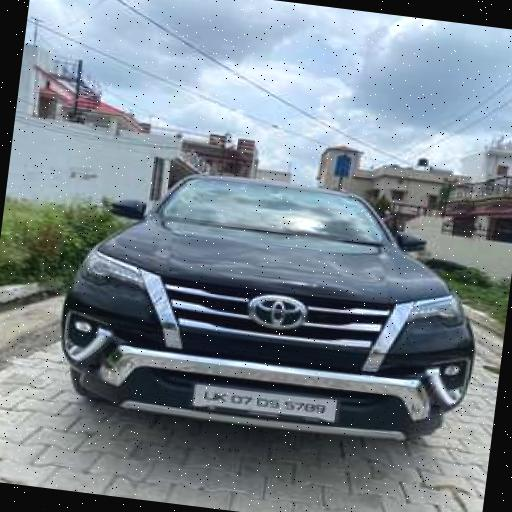license_plate`: (188, 378, 336, 420)
